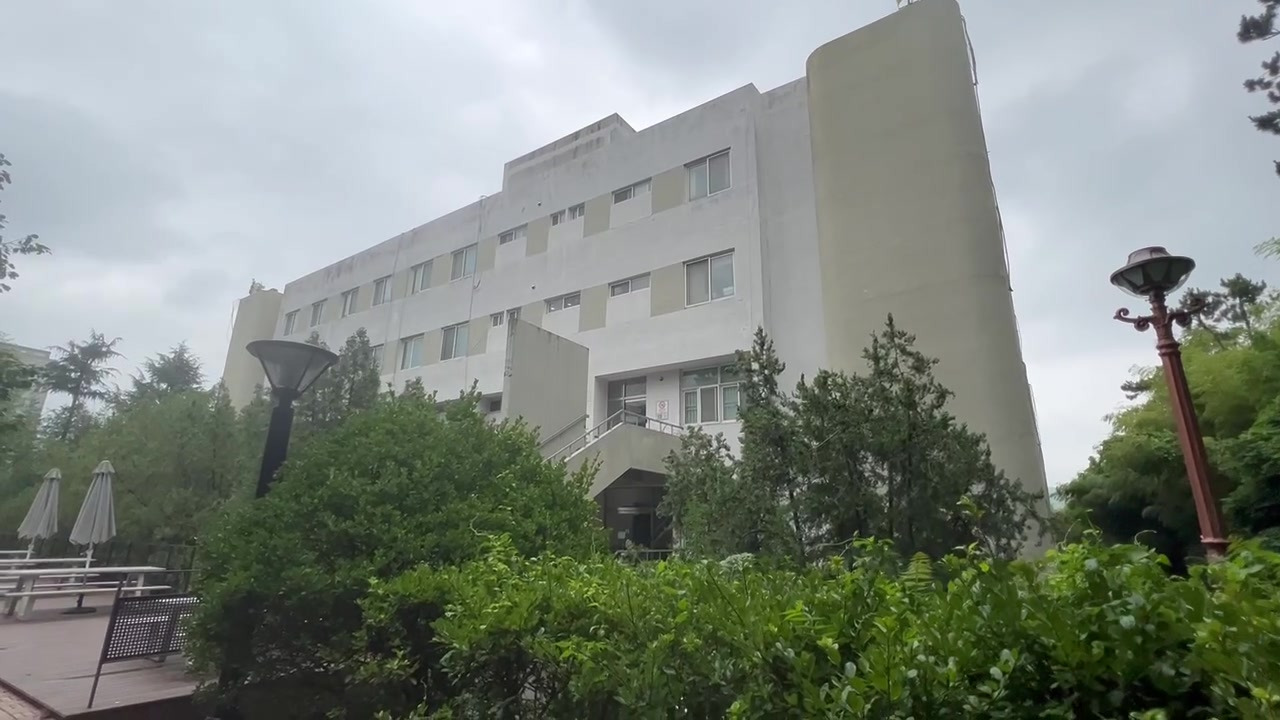low: (276, 30, 1008, 361)
